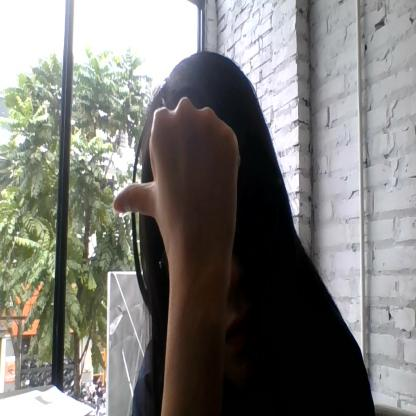right: (111, 95, 242, 255)
